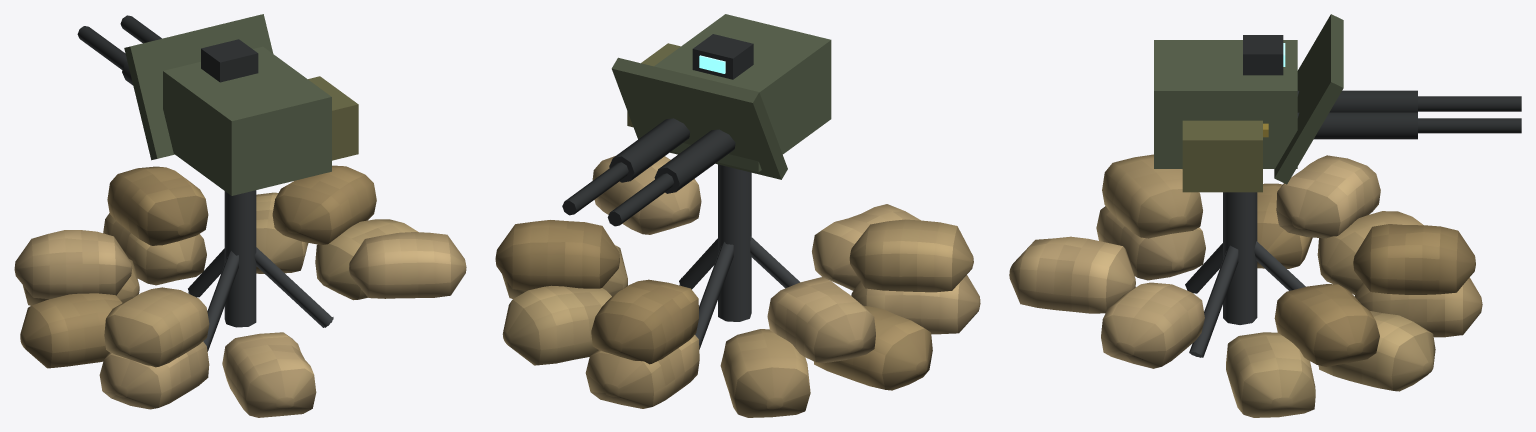
Rendered from defensa-torreta.glb.
The picture shows the model from 3 angles, left to right: view 1: azimuth 30°, elevation 25°; view 2: azimuth 150°, elevation 25°; view 3: azimuth 270°, elevation 25°; orthographic projection. The views are drawn at different scales.
Visible parts, largest first — view 1: torreta-base, torreta-cabezal; view 2: torreta-base, torreta-cabezal; view 3: torreta-base, torreta-cabezal.
Boxes of the visible parts, bbox=[...] form: torreta-base: bbox=[14, 165, 466, 417]; torreta-cabezal: bbox=[77, 14, 358, 195]; torreta-base: bbox=[495, 156, 980, 417]; torreta-cabezal: bbox=[562, 14, 831, 226]; torreta-base: bbox=[1009, 154, 1482, 417]; torreta-cabezal: bbox=[1154, 14, 1521, 192].
Bounding box in the file's own units: 1.67 × 1.08 × 1.78.
